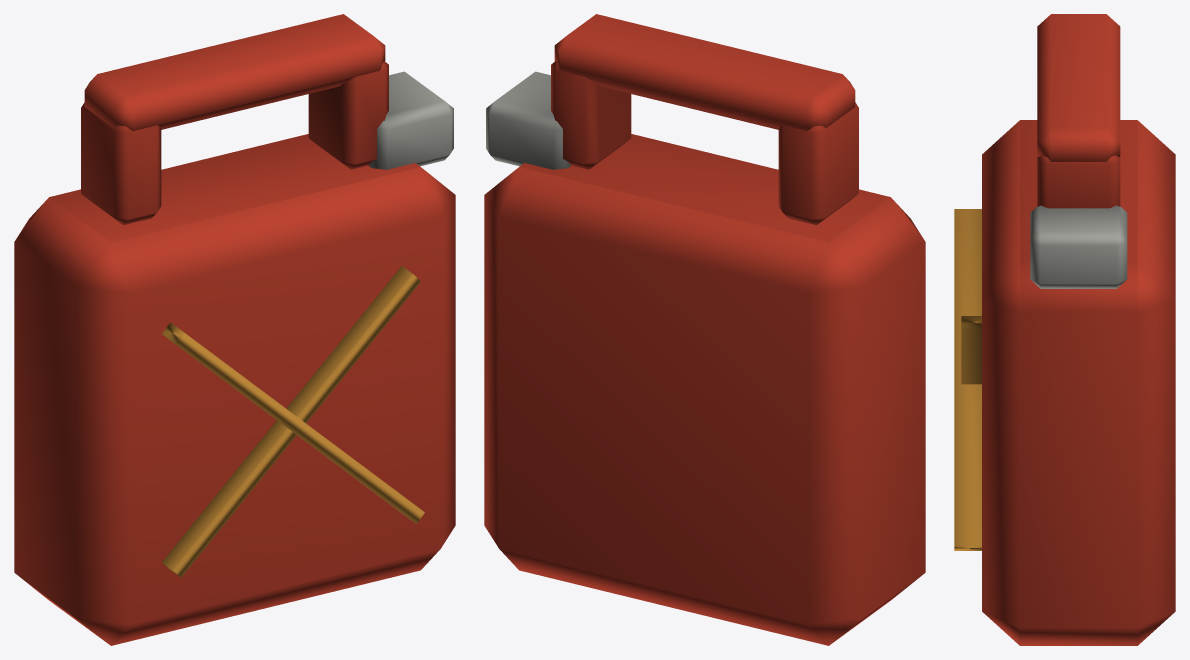
The model's file is fuel_can.glb.
The picture shows the model from 3 angles, left to right: view 1: azimuth 30°, elevation 25°; view 2: azimuth 150°, elevation 25°; view 3: azimuth 270°, elevation 25°; orthographic projection. The views are drawn at different scales.
Visible parts, largest first — view 1: fuel_can; view 2: fuel_can; view 3: fuel_can.
Boxes of the visible parts, x1=… form: fuel_can: x1=14, y1=14, x2=455, y2=645; fuel_can: x1=484, y1=14, x2=925, y2=645; fuel_can: x1=954, y1=14, x2=1175, y2=645.
Bounding box in the file's own units: 0.615 × 0.8025 × 0.32.
